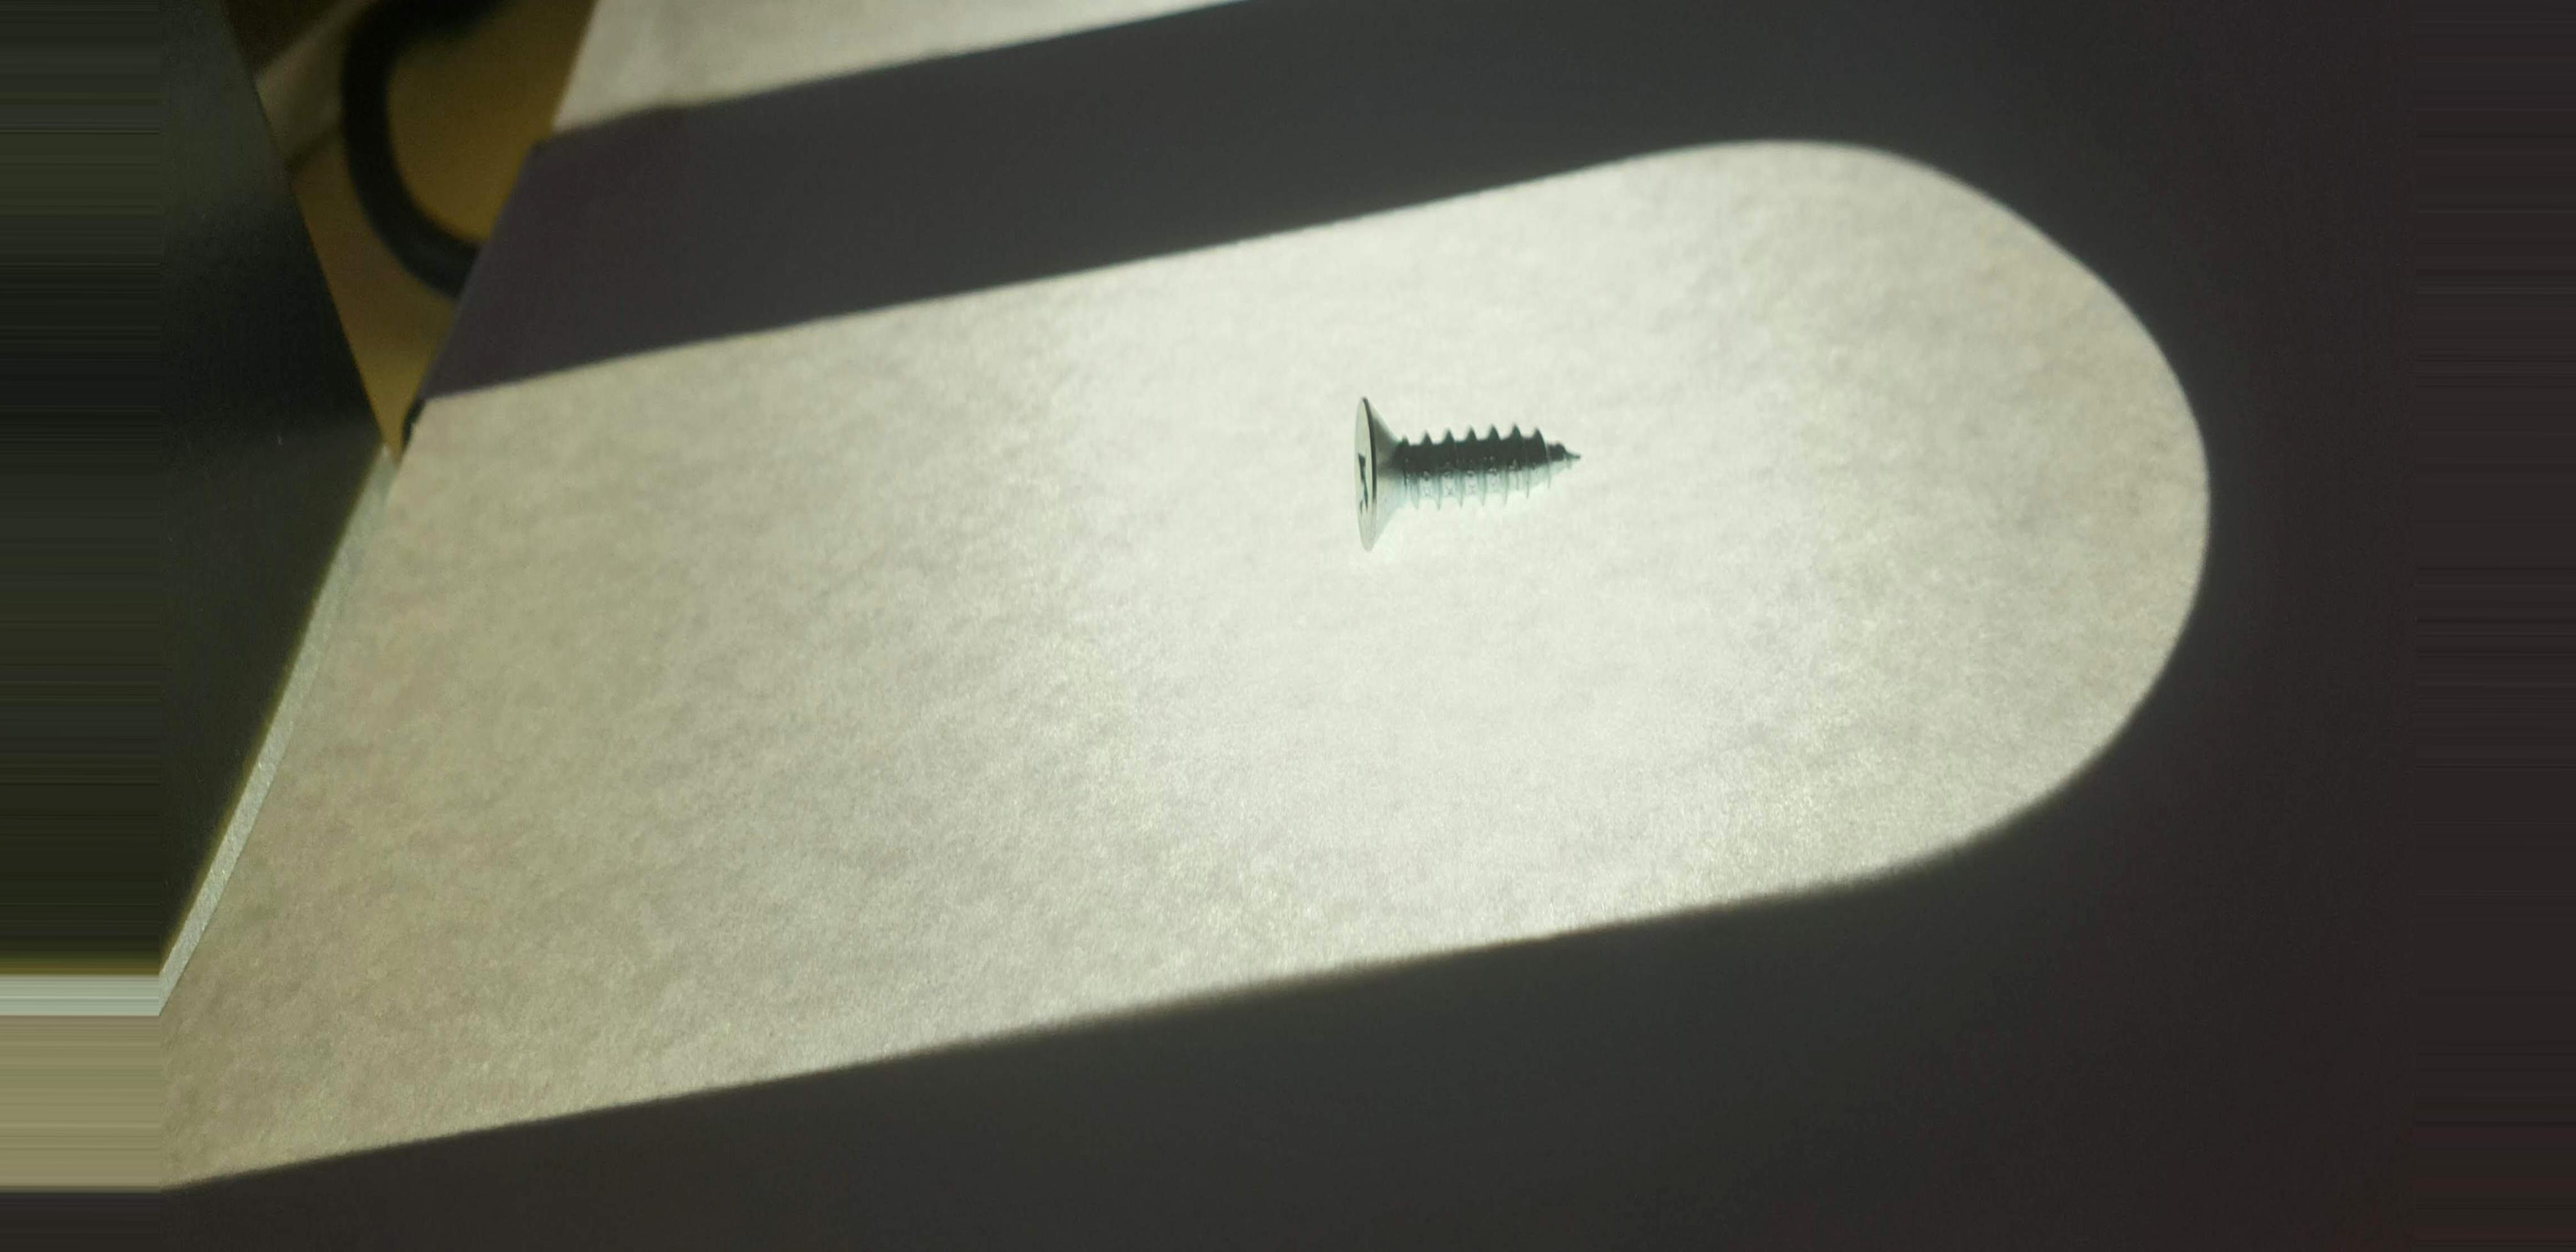S003: (1298, 373, 1654, 590)
